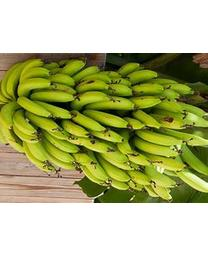banana: (2, 57, 207, 201)
